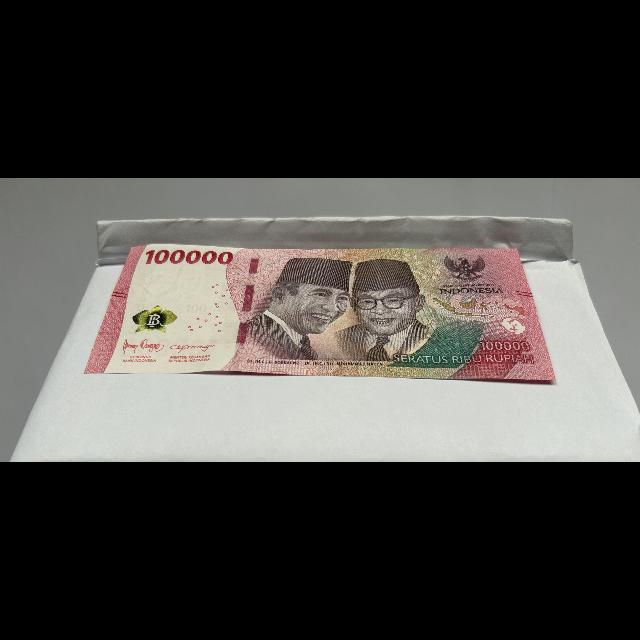Asli-100k: (81, 243, 561, 384)
Tinta-Asli-100k: (127, 304, 181, 335)
